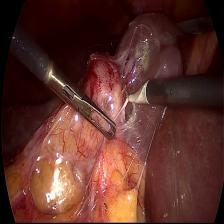Grasper: (44, 69, 119, 149), (83, 34, 117, 62)
Hook: (122, 72, 155, 122)
